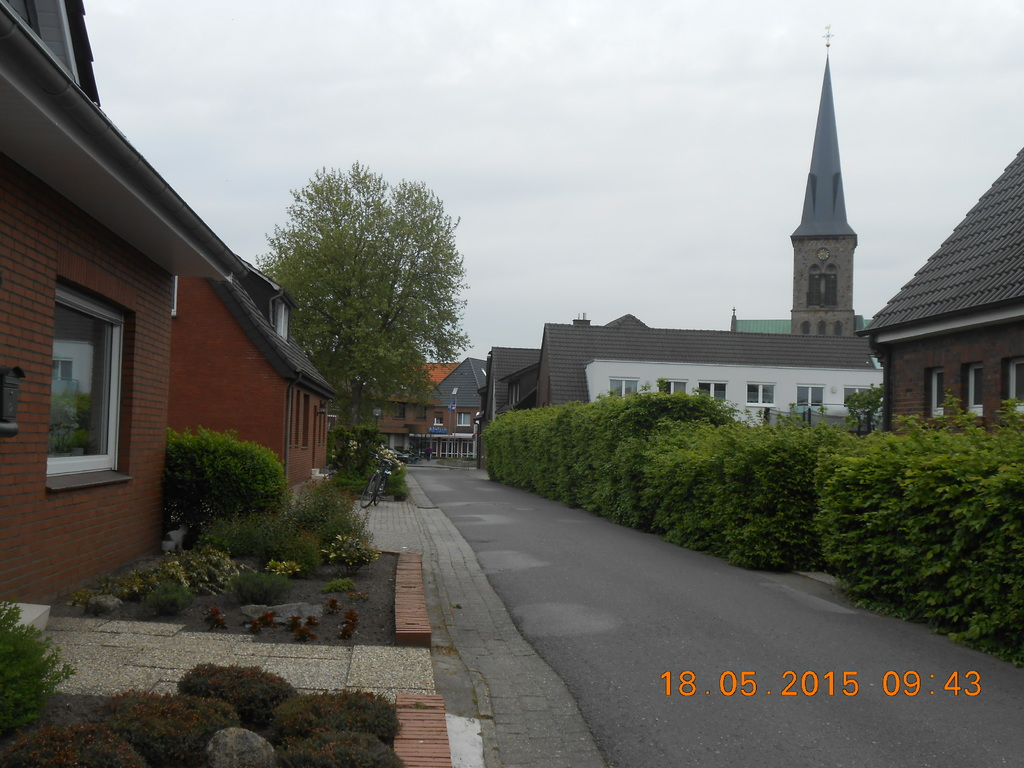Tree: (252, 140, 472, 453)
